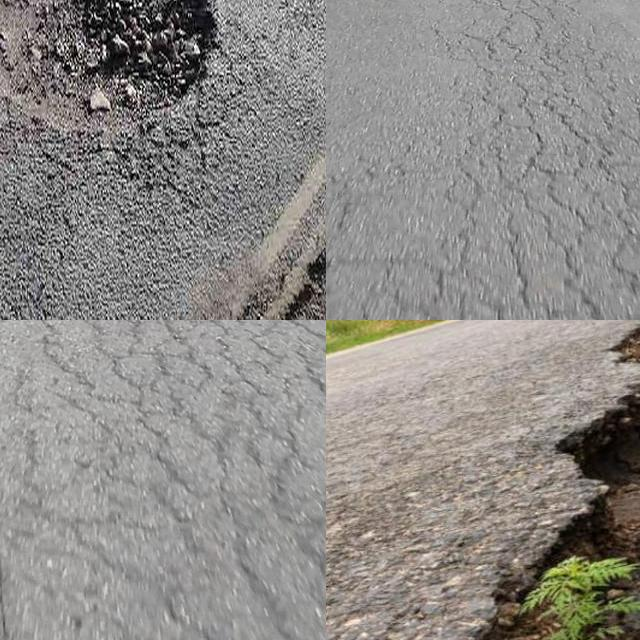Lubang: (0, 0, 225, 125)
Pinggir: (470, 320, 640, 640)
Retak Buaya: (29, 320, 326, 640), (462, 0, 640, 320)
